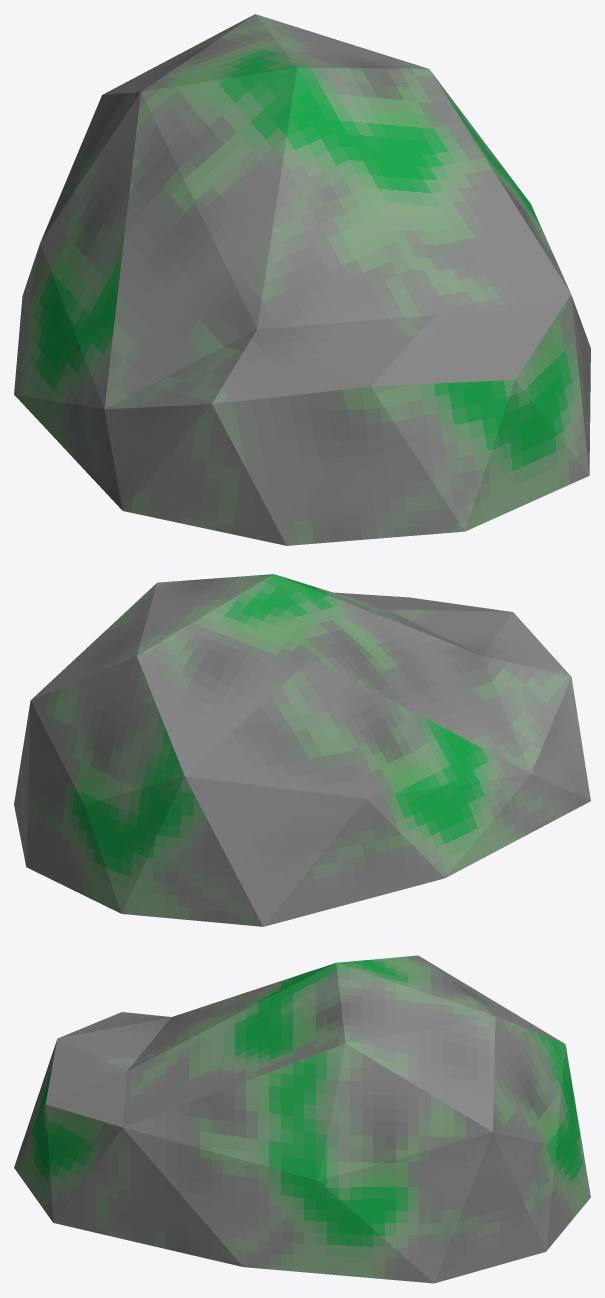
File: roca_mitjana.glb
The picture shows the model from 3 angles, top to bottom: view 1: azimuth 30°, elevation 25°; view 2: azimuth 150°, elevation 25°; view 3: azimuth 270°, elevation 25°; orthographic projection. The views are drawn at different scales.
Visible parts, largest first — view 1: Roca; view 2: Roca; view 3: Roca.
Part boxes in pixels (<box>): Roca: <box>14,14,590,545</box>; Roca: <box>14,574,590,926</box>; Roca: <box>14,955,590,1283</box>.
Size of the model in its own units: 1.6 by 0.8527 by 1.96.
Materials: 1 (1 with a texture image).
